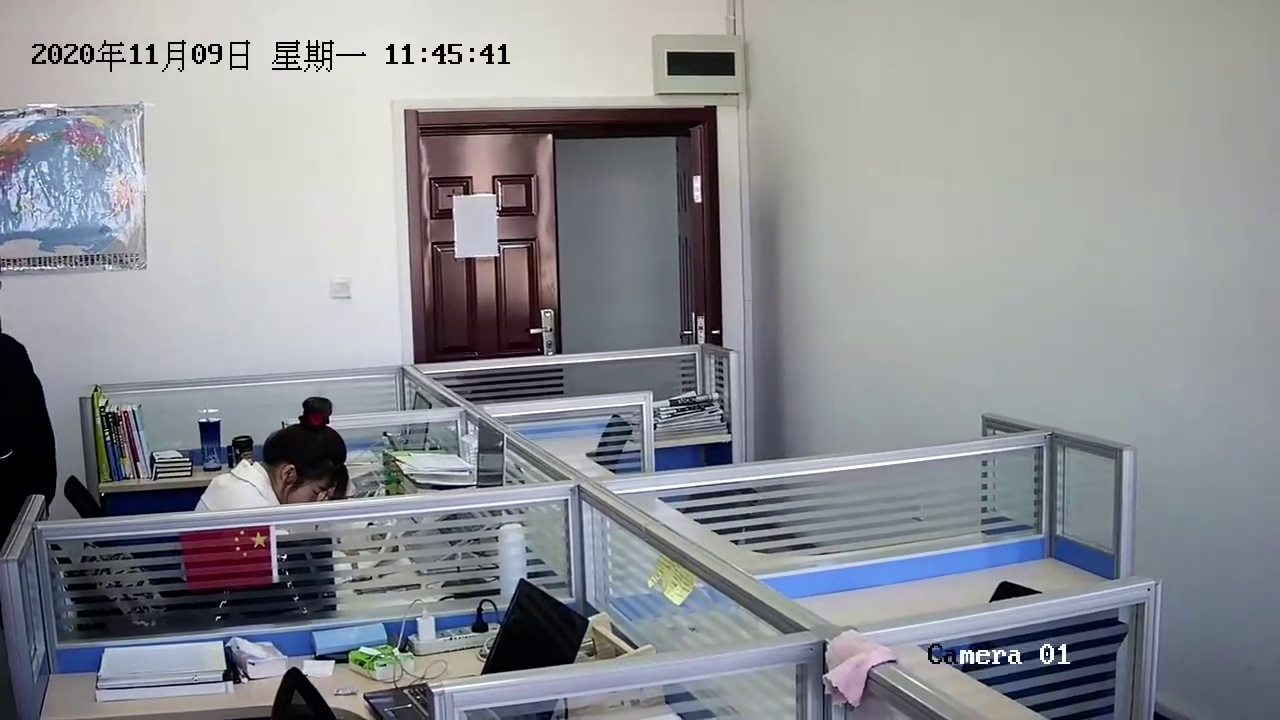mask: (260, 408, 351, 507)
